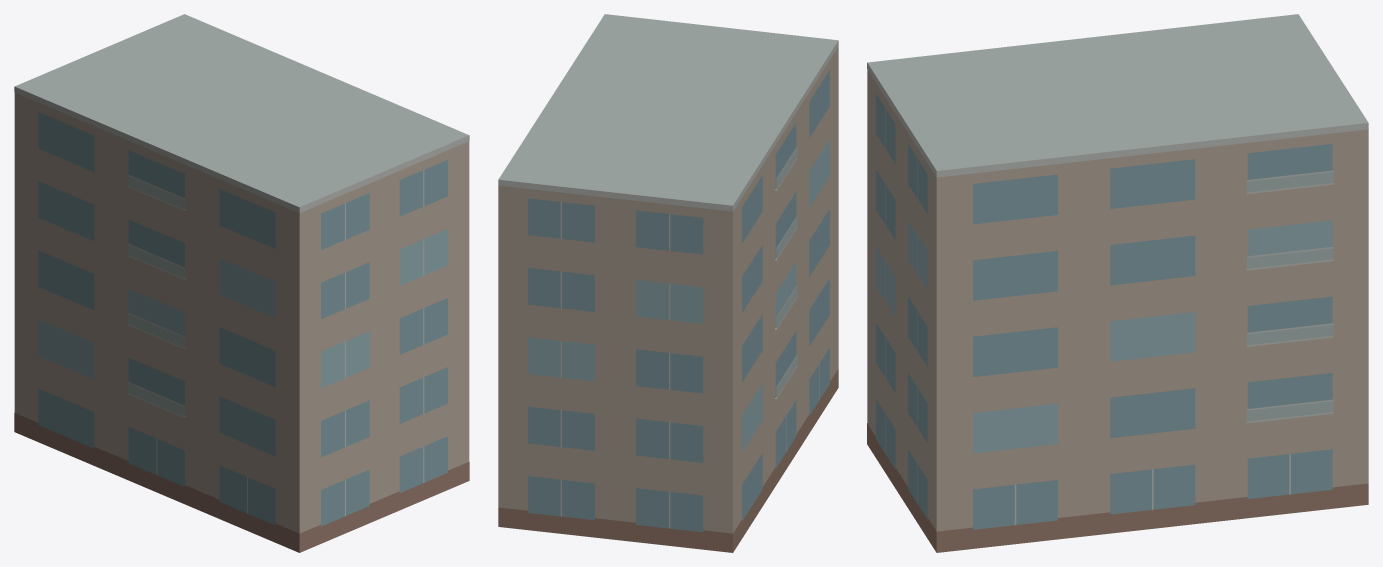
Rendered from survey-upis-32720485.glb.
The picture shows the model from 3 angles, left to right: view 1: azimuth 30°, elevation 25°; view 2: azimuth 150°, elevation 25°; view 3: azimuth 270°, elevation 25°; orthographic projection. The views are drawn at different scales.
Parts seen in each view (by area): view 1: survey-upis-32720485.tmp; view 2: survey-upis-32720485.tmp; view 3: survey-upis-32720485.tmp.
Boxes of the visible parts, x1,y1,x2,y2 form: survey-upis-32720485.tmp: (14,14,469,552); survey-upis-32720485.tmp: (498,14,838,552); survey-upis-32720485.tmp: (867,14,1368,552).
Size of the model in its own units: 12.67 by 14.35 by 17.09.
